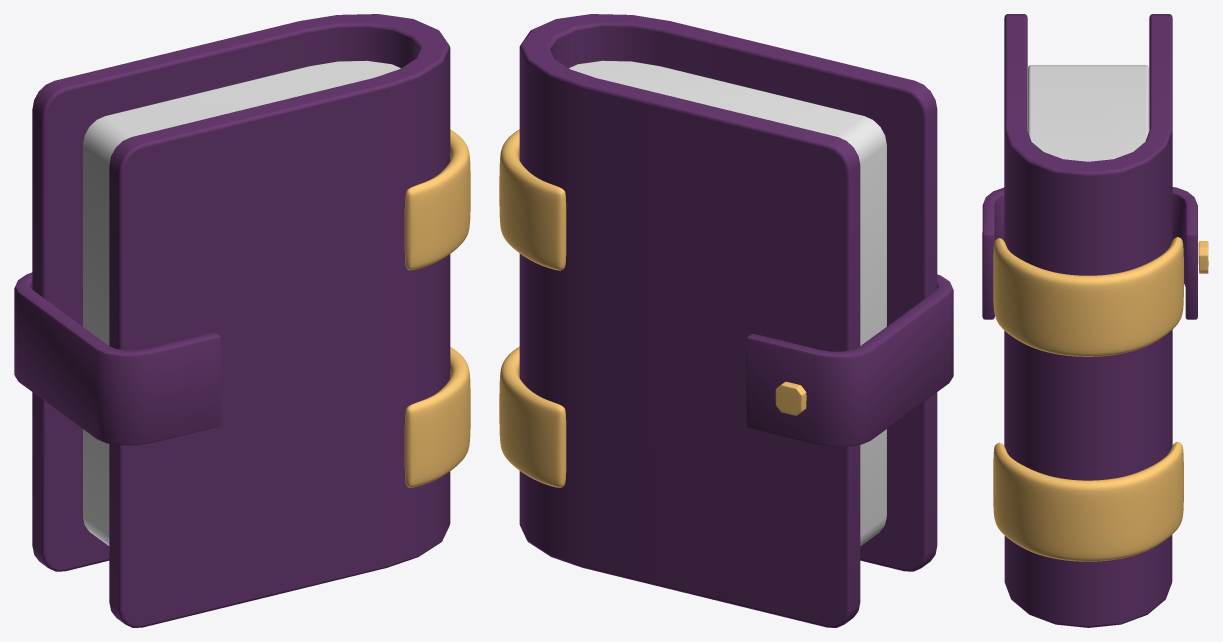
Rendered from book.fbx.
3 renders of one model, left to right at view 1: azimuth 30°, elevation 25°; view 2: azimuth 150°, elevation 25°; view 3: azimuth 270°, elevation 25°, orthographic. The views are drawn at different scales.
Parts seen in each view (by area): view 1: Plane.053; view 2: Plane.053; view 3: Plane.053.
Boxes of the visible parts, bbox=[...] form: Plane.053: bbox=[14, 14, 470, 627]; Plane.053: bbox=[499, 14, 953, 627]; Plane.053: bbox=[982, 14, 1208, 627].
Bounding box in the file's own units: 224 × 259 × 116.
